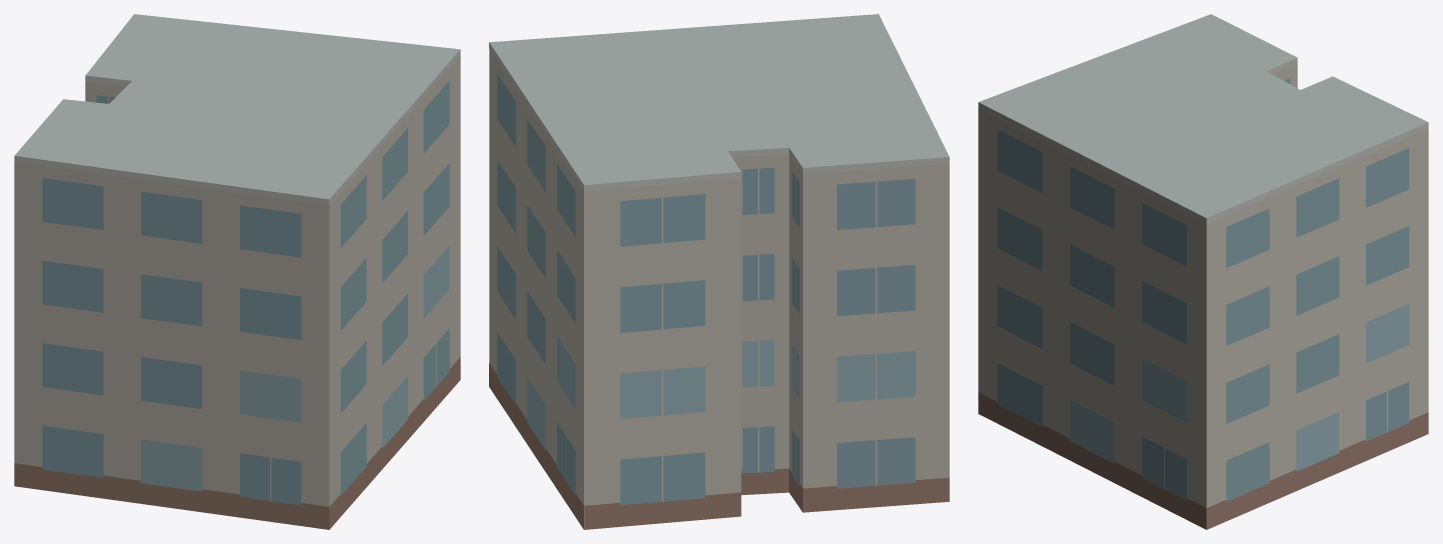
File: survey-upis-32907985.glb
The picture shows the model from 3 angles, left to right: view 1: azimuth 30°, elevation 25°; view 2: azimuth 150°, elevation 25°; view 3: azimuth 270°, elevation 25°; orthographic projection. The views are drawn at different scales.
Parts seen in each view (by area): view 1: survey-upis-32907985.tmp; view 2: survey-upis-32907985.tmp; view 3: survey-upis-32907985.tmp.
Boxes of the visible parts, x1=… form: survey-upis-32907985.tmp: x1=14, y1=14, x2=460, y2=529; survey-upis-32907985.tmp: x1=489, y1=14, x2=949, y2=529; survey-upis-32907985.tmp: x1=978, y1=14, x2=1428, y2=529.
Size of the model in its own units: 18.44 by 13.11 by 17.18.
